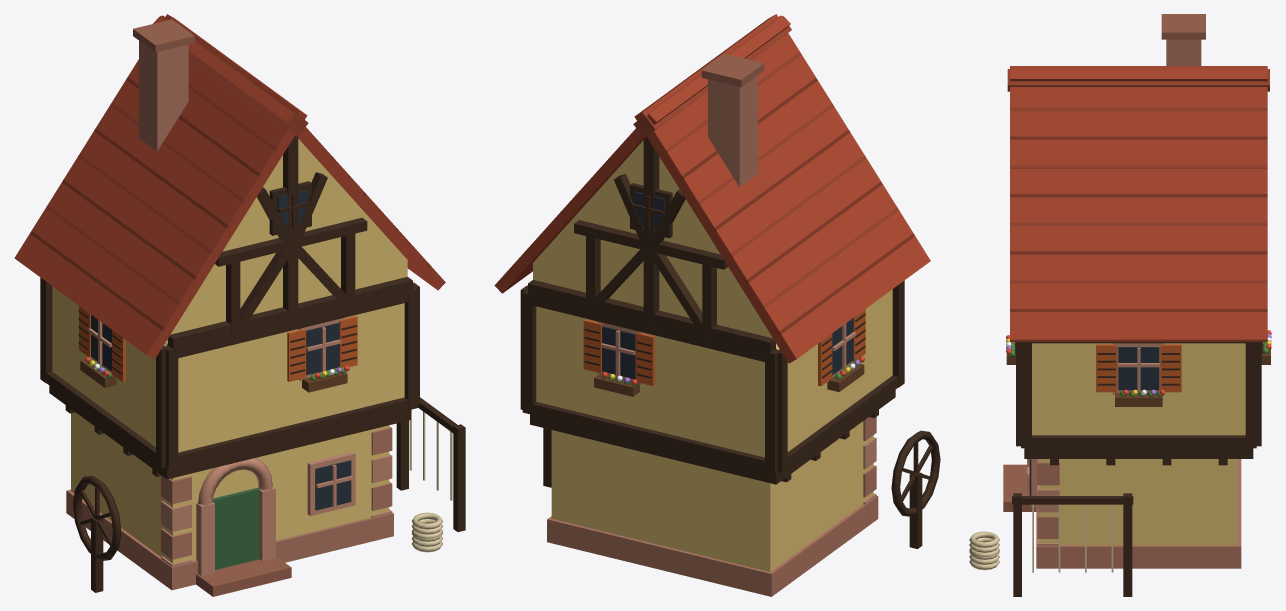
File: seilerei.glb
3 renders of one model, left to right at view 1: azimuth 30°, elevation 25°; view 2: azimuth 150°, elevation 25°; view 3: azimuth 270°, elevation 25°, orthographic. The views are drawn at different scales.
Size of the model in its own units: 3.48 by 4.73 by 2.75.
